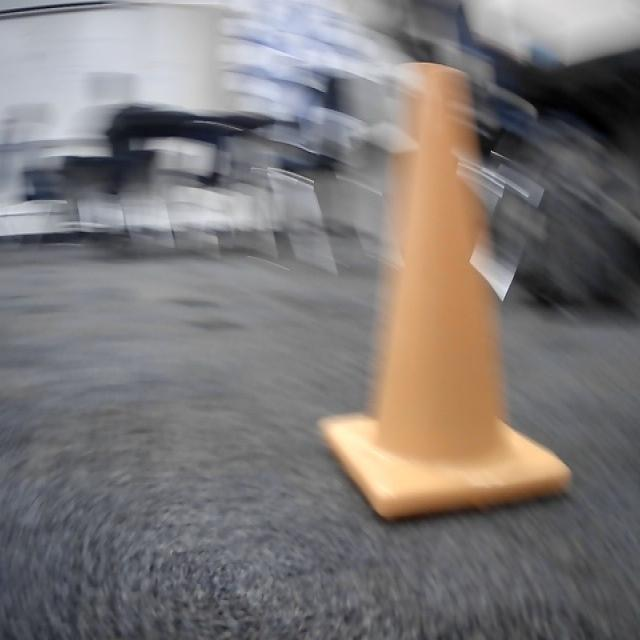cone: (309, 47, 578, 532)
